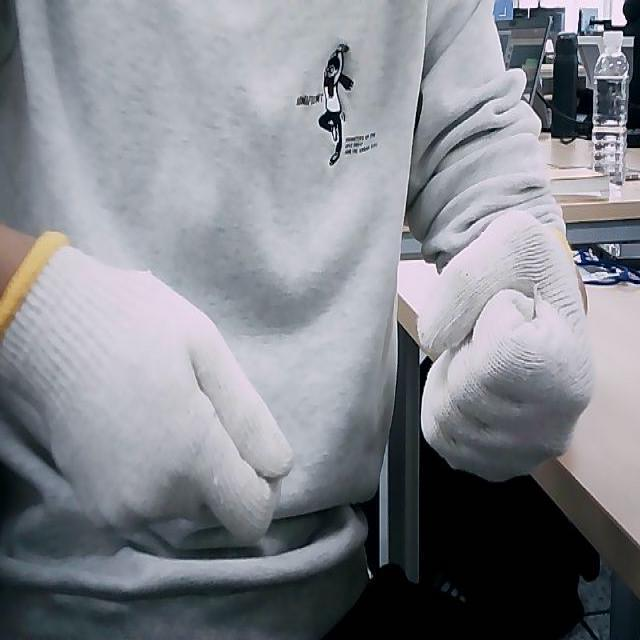gloves: (0, 230, 296, 543), (416, 208, 596, 482)
